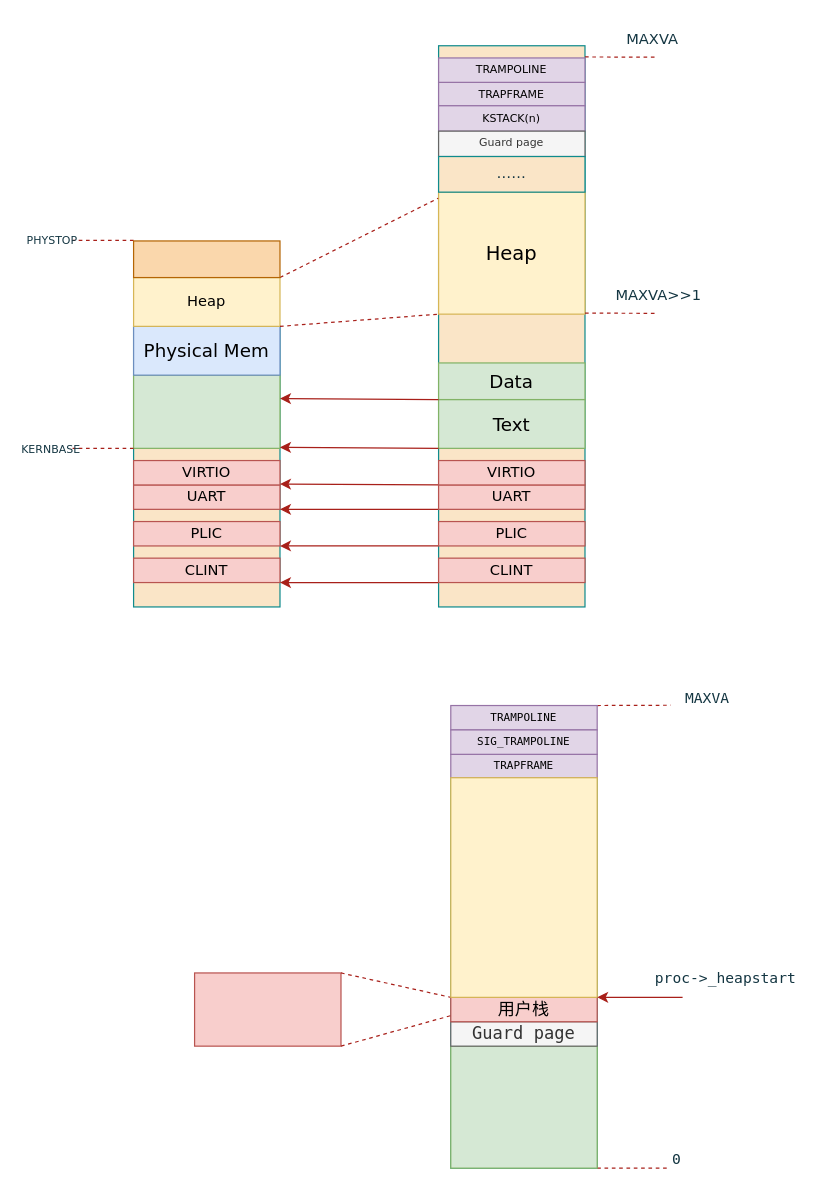
Some shapes in this 832 by 1198 pixel diagram are drawn without their labels. The centre of each missing label's shape, as x and y in pixels:
"Heap Space" belongs at point 523,887.
"Kernel" belongs at point 206,411.
"Program Section" belongs at point 523,1106.
"Shared Mem" belongs at point 206,259.
"用户参数 arguments" belongs at point 267,1009.
